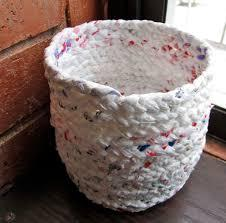Textile: (39, 21, 220, 214)
